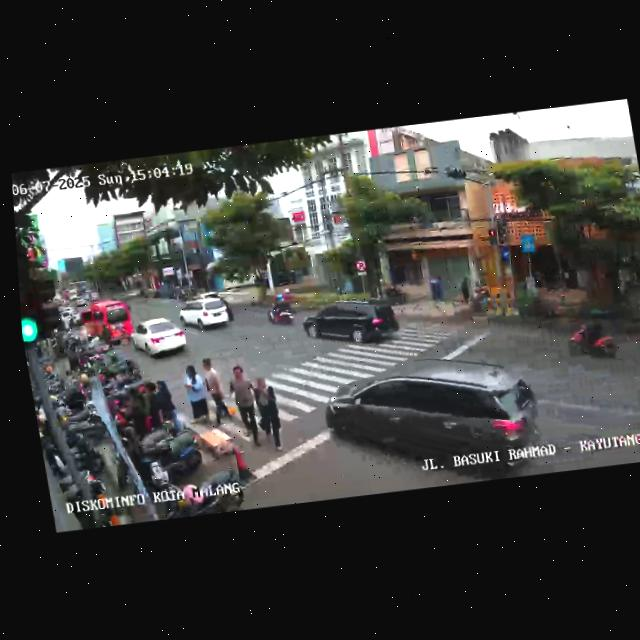car: (317, 361, 534, 495), (303, 291, 402, 353), (128, 314, 190, 363), (76, 298, 134, 347), (177, 292, 235, 335)
motorcycle: (561, 307, 623, 366), (264, 289, 296, 328)
person: (225, 363, 262, 448), (249, 371, 287, 450), (200, 355, 232, 427), (180, 361, 211, 428), (155, 378, 180, 433)
